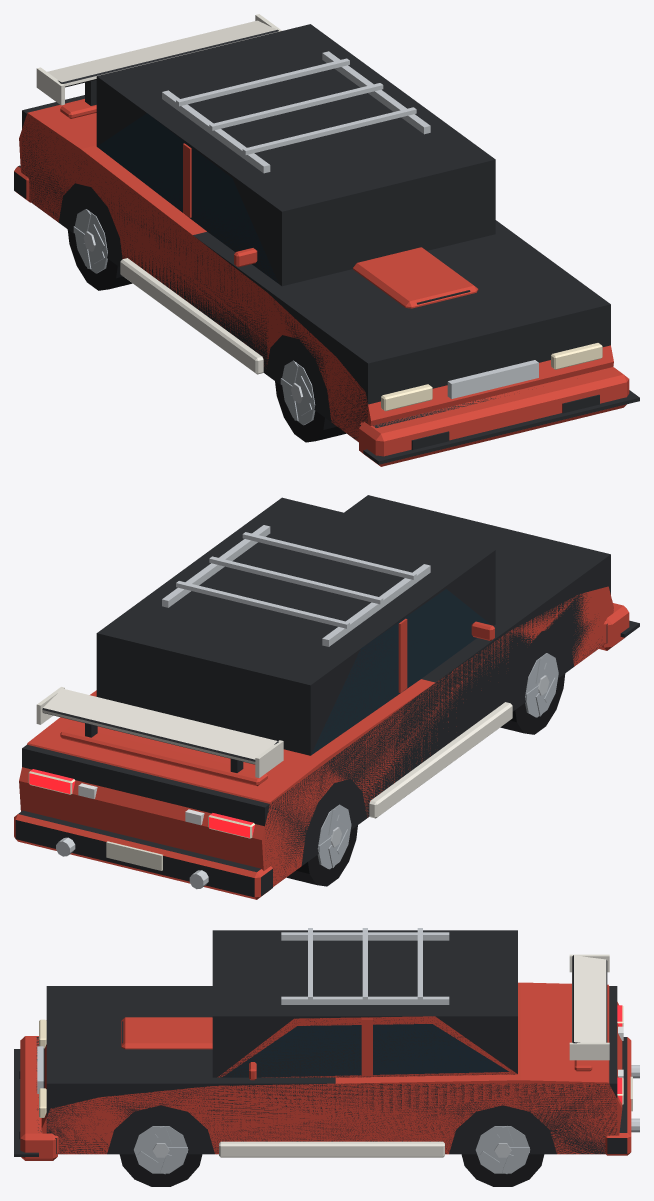
Rendered from VEH_Sedan.fbx.
3 renders of one model, top to bottom at view 1: azimuth 30°, elevation 25°; view 2: azimuth 150°, elevation 25°; view 3: azimuth 270°, elevation 25°, orthographic. The views are drawn at different scales.
Parts seen in each view (by area): view 1: VEH_Sedan__COL_Cabin, VEH_Sedan__COL_Body, VEH_Sedan__BODY, VEH_Sedan, VEH_Sedan__WHEEL_FR, VEH_Sedan__WHEEL_RR, VEH_Sedan__LIGHTS; view 2: VEH_Sedan__COL_Cabin, VEH_Sedan__BODY, VEH_Sedan__COL_Body, VEH_Sedan, VEH_Sedan__WHEEL_RR, VEH_Sedan__WHEEL_FR, VEH_Sedan__LIGHTS; view 3: VEH_Sedan__BODY, VEH_Sedan__COL_Body, VEH_Sedan__COL_Cabin, VEH_Sedan, VEH_Sedan__WHEEL_FL, VEH_Sedan__WHEEL_RL, VEH_Sedan__LIGHTS.
Part boxes in pixels (x1,y1,x2,y2): VEH_Sedan__COL_Cabin: (96, 24, 495, 286); VEH_Sedan__COL_Body: (22, 95, 610, 440); VEH_Sedan__BODY: (14, 99, 613, 442); VEH_Sedan: (36, 14, 639, 466); VEH_Sedan__WHEEL_FR: (275, 360, 346, 442); VEH_Sedan__WHEEL_RR: (67, 209, 132, 290); VEH_Sedan__LIGHTS: (381, 343, 602, 411); VEH_Sedan__COL_Cabin: (96, 497, 495, 755); VEH_Sedan__BODY: (14, 586, 613, 899); VEH_Sedan__COL_Body: (22, 495, 610, 884); VEH_Sedan: (36, 525, 639, 889); VEH_Sedan__WHEEL_RR: (286, 804, 357, 886); VEH_Sedan__WHEEL_FR: (500, 653, 565, 734); VEH_Sedan__LIGHTS: (28, 769, 254, 838); VEH_Sedan__BODY: (36, 982, 632, 1155); VEH_Sedan__COL_Body: (46, 986, 617, 1154); VEH_Sedan__COL_Cabin: (212, 930, 517, 1077); VEH_Sedan: (14, 928, 639, 1160); VEH_Sedan__WHEEL_FL: (119, 1126, 202, 1186); VEH_Sedan__WHEEL_RL: (461, 1126, 544, 1186); VEH_Sedan__LIGHTS: (39, 1005, 623, 1117).
Bounding box in the file's own units: 1.98 × 1.55 × 4.98.
